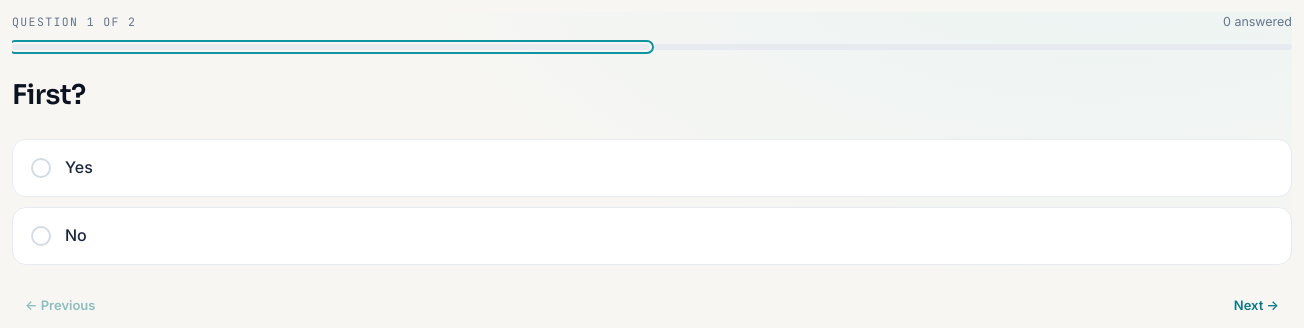
question flow › is a radio group, records the answer and advances
Expected: the element showing "Yes No" is shown, x1=12 y1=139 x2=1292 y2=264
Click the radio button labelled "Yes" at [41, 168], box x1=12 y1=139 x2=1292 y2=197
Wait 400 ms
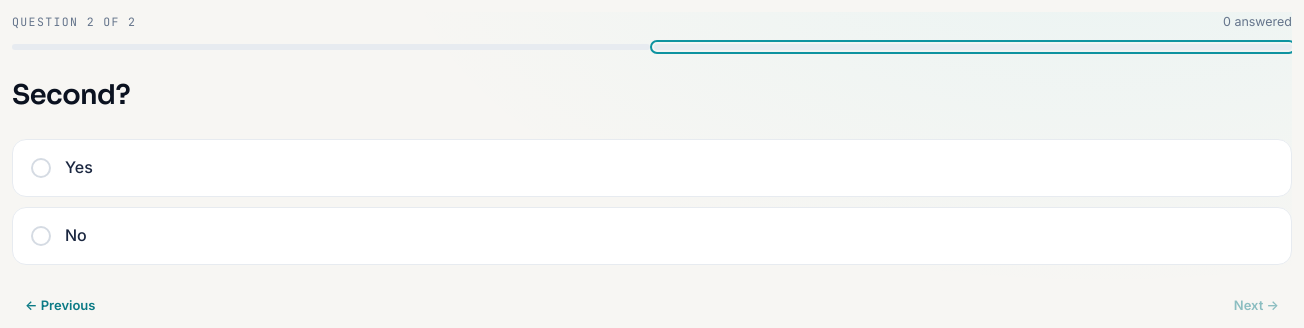
Expected: the heading "Second?" is shown, x1=12 y1=78 x2=130 y2=112
